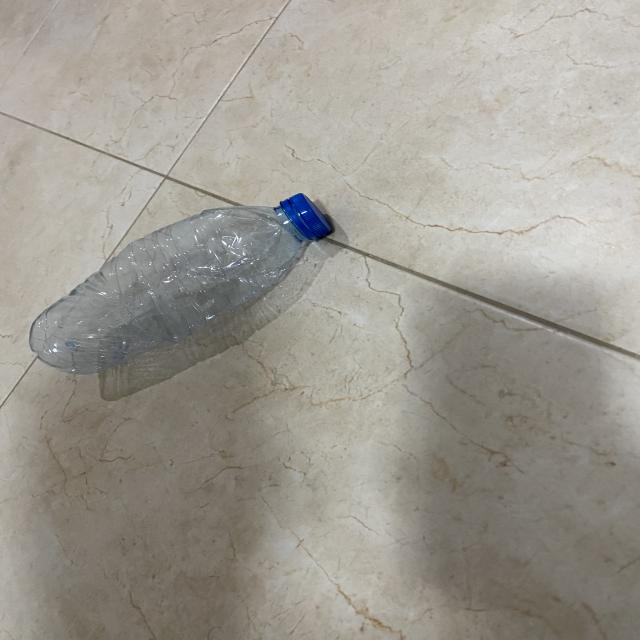plastic bottle: (23, 189, 341, 383)
